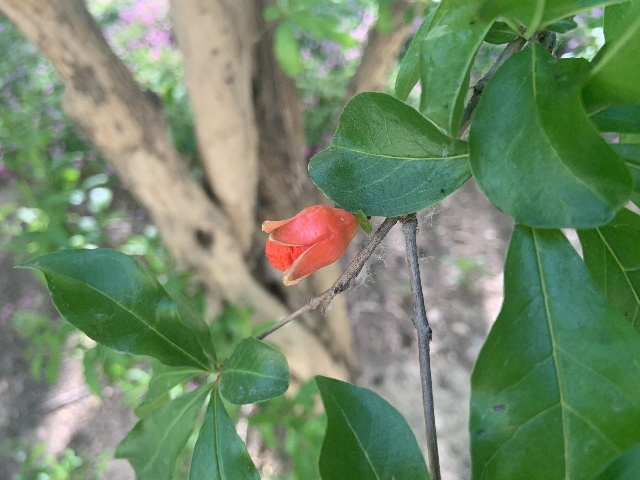flower: (261, 204, 357, 285)
